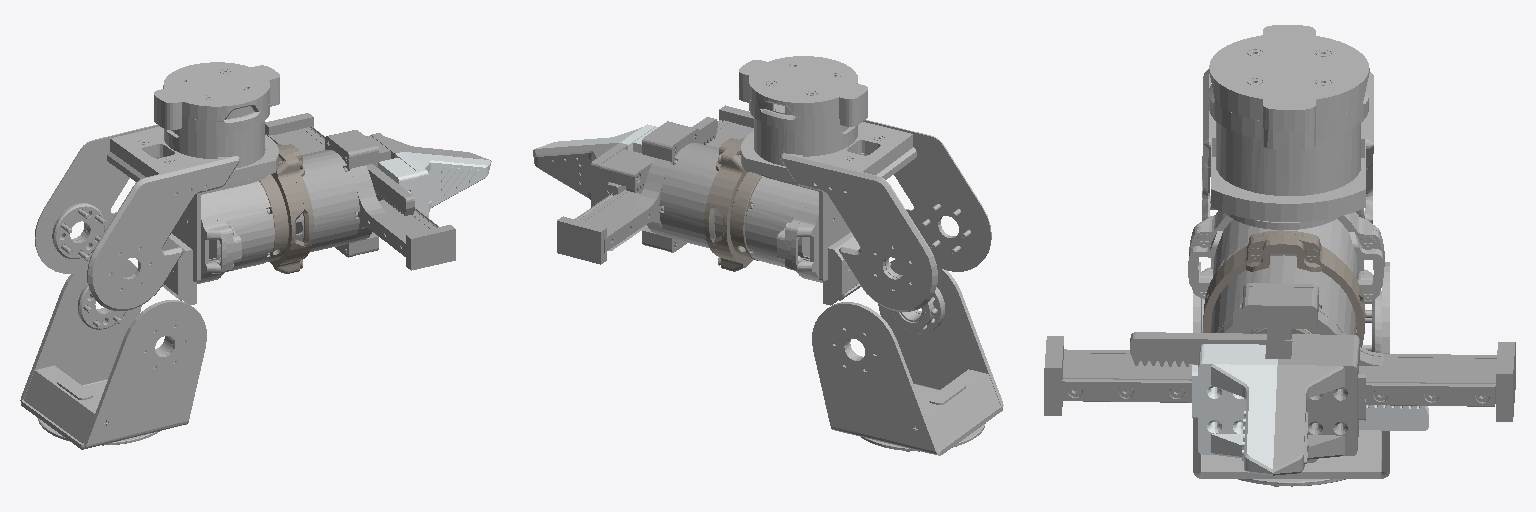
The robot description file, URDF, robot "joyarm_dm":
<?xml version="1.0" encoding="utf-8"?>
<!-- This URDF was automatically created by SolidWorks to URDF Exporter! Originally created by Stephen Brawner (brawner@gmail.com) 
     Commit Version: 1.6.0-4-g7f85cfe  Build Version: 1.6.7995.38578
     For more information, please see http://wiki.ros.org/sw_urdf_exporter -->

<robot name="joyarm_dm">
  <!-- ================================================================= -->
  <!--                               arm                                 -->
  <!-- ================================================================= -->

  <!-- ============================ link0 =========================== -->
  <link name="link0">
    <inertial>
      <origin xyz="-0.000007 -0.000030 0.045940" rpy="0 0 0" />
      <mass value="0.808" />
      <inertia ixx="0.001376929" ixy="0.000000066" ixz="-0.000000003" iyy="0.001095376" iyz="-0.000000538" izz="0.001367384" />
    </inertial>
    <visual>
      <origin xyz="0 0 0" rpy="0 0 0" />
      <geometry>
        <mesh filename="../meshes/link0.STL" />
      </geometry>
      <material name="">
        <color rgba="0.75294 0.75294 0.75294 1" />
      </material>
    </visual>
    <collision>
      <origin xyz="0 0 0" rpy="0 0 0" />
      <geometry>
        <mesh filename="../meshes/link0.STL" />
      </geometry>
    </collision>
  </link>

  <!-- ============================ link1 =========================== -->
  <link name="link1">
    <inertial>
      <origin xyz="0.006732 -0.002604 -0.030755" rpy="0 0 0" />
      <mass value="0.217" />
      <inertia ixx="0.000332437" ixy="0.000007515" ixz="-0.000052614" iyy="0.000237489" iyz="0.000017447" izz="0.000262793" />
    </inertial>
    <visual>
      <origin xyz="0 0 0" rpy="0 0 0" />
      <geometry>
        <mesh filename="../meshes/link1.STL" />
      </geometry>
      <material name="">
        <color rgba="0.75294 0.75294 0.75294 1" />
      </material>
    </visual>
    <collision>
      <origin xyz="0 0 0" rpy="0 0 0" />
      <geometry>
        <mesh filename="../meshes/link1.STL" />
      </geometry>
    </collision>
  </link>

  <!-- ============================ joint1 =========================== -->
  <joint name="joint1" type="revolute">
    <origin xyz="0 0 0.1402" rpy="0 0 0" />
    <parent link="link0" />
    <child link="link1" />
    <axis xyz="0 0 1" />
    <limit lower="-2.8" upper="2.8" effort="30" velocity="5" />
  </joint>

  <!-- ============================ link2 =========================== -->
  <link name="link2">
    <inertial>
      <origin xyz="0.133871 -0.001318 -0.001129" rpy="0 0 0" />
      <mass value="1.196" />
      <inertia ixx="0.000684690" ixy="-0.000003268" ixz="-0.000061685" iyy="0.017240403" iyz="0.000002921" izz="0.017039728" />
    </inertial>
    <visual>
      <origin xyz="0 0 0" rpy="3.141592653589793 0 0" />
      <geometry>
        <mesh filename="../meshes/link2.STL" />
      </geometry>
      <material name="">
        <color rgba="0.75294 0.75294 0.75294 1" />
      </material>
    </visual>
    <collision>
      <origin xyz="0 0 0" rpy="3.141592653589793 0 0" />
      <geometry>
        <mesh filename="../meshes/link2.STL" />
      </geometry>
    </collision>
  </link>

  <!-- ============================ joint2 =========================== -->
  <joint name="joint2" type="revolute">
    <origin xyz="0.02 0 0" rpy="-1.5707963267948966 0 3.141592653589793" />
    <parent link="link1" />
    <child link="link2" />
    <axis xyz="0 0 1" />
    <limit lower="-3.14" upper="0" effort="30" velocity="5" />
  </joint>

  <!-- ============================ link3 =========================== -->
  <link name="link3">
    <inertial>
      <origin xyz="0.159621 -0.015443 0.000257" rpy="0 0 0" />
      <mass value="0.799" />
      <inertia ixx="0.000845656" ixy="-0.001092298" ixz="-0.000007172" iyy="0.008275845" iyz="0.000000031" izz="0.008302930" />
    </inertial>
    <visual>
      <origin xyz="0 0 0" rpy="0 0 0" />
      <geometry>
        <mesh filename="../meshes/link3.STL" />
      </geometry>
      <material name="">
        <color rgba="0.69804 0.69804 0.69804 1" />
      </material>
    </visual>
    <collision>
      <origin xyz="0 0 0" rpy="0 0 0" />
      <geometry>
        <mesh filename="../meshes/link3.STL" />
      </geometry>
    </collision>
  </link>

  <!-- ============================ joint3 =========================== -->
  <joint name="joint3" type="revolute">
    <origin xyz="0.264 0 0" rpy="3.141592653589793 0 -2.9226" />
    <parent link="link2" />
    <child link="link3" />
    <axis xyz="0 0 1" />
    <limit lower="-3.14" upper="0" effort="30" velocity="5" />
  </joint>

  <!-- ============================ link4 =========================== -->
  <link name="link4">
    <inertial>
      <origin xyz="0.062723 -0.049703 -0.000784" rpy="0 0 0" />
      <mass value="0.473" />
      <inertia ixx="0.000417026" ixy="0.000234109" ixz="0.000014853" iyy="0.000645358" iyz="-0.000013317" izz="0.000707636" />
    </inertial>
    <visual>
      <origin xyz="0 0 0" rpy="0 0 0" />
      <geometry>
        <mesh filename="../meshes/link4.STL" />
      </geometry>
      <material name="">
        <color rgba="0.75294 0.75294 0.75294 1" />
      </material>
    </visual>
    <collision>
      <origin xyz="0 0 0" rpy="0 0 0" />
      <geometry>
        <mesh filename="../meshes/link4.STL" />
      </geometry>
    </collision>
  </link>

  <!-- ============================ joint4 =========================== -->
  <joint name="joint4" type="revolute">
   <!--  <origin xyz="0.24854 0 0" rpy="0 -0.030795 0.21913" />-->
    <origin xyz="0.24854 0 0" rpy="0 0 0.21913" />
    <parent link="link3" />
    <child link="link4" />
    <axis xyz="0 0 1" />
    <limit lower="-1.57" upper="1.57" effort="9" velocity="8" />
  </joint>

  <!-- ============================ link5 =========================== -->
  <link name="link5">
    <inertial>
      <origin xyz="0.000770 0.001115 -0.003159" rpy="0 0 0" />
      <mass value="0.375" />
      <inertia ixx="0.000204066" ixy="-0.000000004" ixz="-0.000000037" iyy="0.000202394" iyz="-0.000005501" izz="0.000159540" />
    </inertial>
    <visual>
      <origin xyz="0 0 0" rpy="0 0 0" />
      <geometry>
        <mesh filename="../meshes/link5.STL" />
      </geometry>
      <material name="">
        <color rgba="0.75294 0.75294 0.75294 1" />
      </material>
    </visual>
    <collision>
      <origin xyz="0 0 0" rpy="0 0 0" />
      <geometry>
        <mesh filename="../meshes/link5.STL" />
      </geometry>
    </collision>
  </link>

  <!-- ============================ joint5 =========================== -->
  <joint name="joint5" type="revolute">
    <origin xyz="0.078283 0.0024911 -0.0016418" rpy="1.571 1.54 -3.1416" />
    <parent link="link4" />
    <child link="link5" />
    <axis xyz="0 0 1" />
    <limit lower="-1.57" upper="1.57" effort="9" velocity="8" />
  </joint>

  <!-- ============================ link6 =========================== -->
  <link name="link6">
    <inertial>
      <origin xyz="0 0.000013 0.029727" rpy="0 0 0" />
      <mass value="0.070" />
      <inertia ixx="0.000021878" ixy="0" ixz="0" iyy="0.000017678" iyz="0.000000005" izz="0.000035131" />
    </inertial>
    <visual>
      <origin xyz="0 0 0" rpy="0 0 0" />
      <geometry>
        <mesh filename="../meshes/link6.STL" />
      </geometry>
      <material name="">
        <color rgba="0.64706 0.61961 0.58824 1" />
      </material>
    </visual>
    <collision>
      <origin xyz="0 0 0" rpy="0 0 0" />
      <geometry>
        <mesh filename="../meshes/link6.STL" />
      </geometry>
    </collision>
  </link>

  <!-- ============================ joint6 =========================== -->
  <joint name="joint6" type="revolute">
   <!-- <origin xyz="0.00076939 -1.1537E-05 0" rpy="1.5707 0 0" />-->
    <origin xyz="0 0 0" rpy="1.5707963267948966 0 0" />
    <parent link="link5" />
    <child link="link6" />
    <axis xyz="0 0 1" />
    <limit lower="-3.14" upper="3.14" effort="9" velocity="8" />
  </joint>

  <!-- ================================================================= -->
  <!--                            end-gripper                            -->
  <!-- ================================================================= -->

  <!-- ============================ link_end0 =========================== -->
  <link name="link_end0">
    <inertial>
      <origin xyz="0.038762 0.000098 0.000004" rpy="0 0 0" />
      <mass value="0.432" />
      <inertia ixx="0.000444560" ixy="0.000001261" ixz="-0.000000026" iyy="0.000259681" iyz="-0.000000837" izz="0.000548240" />
    </inertial>
    <visual>
      <origin xyz="0 0 0" rpy="0 0 0" />
      <geometry>
        <mesh filename="../meshes/link_end0.STL" />
      </geometry>
      <material name="">
        <color rgba="0.69804 0.69804 0.69804 1" />
      </material>
    </visual>
    <collision>
      <origin xyz="0 0 0" rpy="0 0 0" />
      <geometry>
        <mesh filename="../meshes/link_end0.STL" />
      </geometry>
    </collision>
  </link>

  <!-- ============================ joint_end0 =========================== -->
  <joint name="joint_end0" type="fixed">
    <origin xyz="0 0 0.032692" rpy="1.5708 -1.5708 0" />
    <parent link="link6" />
    <child link="link_end0" />
  </joint>

  <!-- ============================ link_end1 =========================== -->
  <link name="link_end1">
    <inertial>
      <origin xyz="0.009666 0 -0.000005" rpy="0 0 0" />
      <mass value="0.023" />
      <inertia ixx="0.000001453" ixy="0" ixz="-0.000000004" iyy="0.000001700" iyz="0" izz="0.000001701" />
    </inertial>
    <visual>
      <origin xyz="0 0 0" rpy="0 0 0" />
      <geometry>
        <mesh filename="../meshes/link_end1.STL" />
      </geometry>
      <material name="">
        <color rgba="0.64706 0.61961 0.58824 1" />
      </material>
    </visual>
    <collision>
      <origin xyz="0 0 0" rpy="0 0 0" />
      <geometry>
        <mesh filename="../meshes/link_end1.STL" />
      </geometry>
    </collision>
  </link>

  <!-- ============================ joint_end1 =========================== -->
  <joint name="joint_end1" type="revolute">
    <origin xyz="0.0485 0 0" rpy="0 0 0" />
    <parent link="link_end0" />
    <child link="link_end1" />
    <axis xyz="1 0 0" />
    <limit lower="-5.49" upper="0" effort="1.5" velocity="8" />
  </joint>

  <!-- ============================ link_end_fingerright =========================== -->
  <link name="link_end_fingerright">
    <inertial>
      <origin xyz="-0.005907 -0.011609 -0.002754" rpy="0 0 0" />
      <mass value="0.085" />
      <inertia ixx="0.000037044" ixy="0.000003980" ixz="-0.000003378" iyy="0.000024399" iyz="0.000005275" izz="0.000042504" />
    </inertial>
    <visual>
      <origin xyz="0 0 0" rpy="0 0 0" />
      <geometry>
        <mesh filename="../meshes/link_end_fingerright.STL" />
      </geometry>
      <material name="">
        <color rgba="0.89804 0.91765 0.92941 1" />
      </material>
    </visual>
    <collision>
      <origin xyz="0 0 0" rpy="0 0 0" />
      <geometry>
        <mesh filename="../meshes/link_end_fingerright.STL" />
      </geometry>
    </collision>
  </link>

  <!-- ============================ joint_end_fingerright =========================== -->
  <joint name="joint_end_fingerright" type="prismatic">
    <origin xyz="0.0859 2.7531E-05 -1.3031E-05" rpy="0 0 0" />
    <parent link="link_end0" />
    <child link="link_end_fingerright" />
    <axis xyz="0 1 -0.00014746" />
    <limit lower="-0.04625" upper="0" effort="178.15" velocity="0.06736" />
    <mimic joint="joint_end1" multiplier="0.00842" offset="0" />
  </joint>

  <!-- ============================ link_end_fingerleft =========================== -->
  <link name="link_end_fingerleft">
    <inertial>
      <origin xyz="-0.005907 0.011609 0.002754" rpy="0 0 0" />
      <mass value="0.085" />
      <inertia ixx="0.000037044" ixy="-0.000003980" ixz="0.000003378" iyy="0.000024399" iyz="0.000005275" izz="0.000042504" />
    </inertial>
    <visual>
      <origin xyz="0 0 0" rpy="0 0 0" />
      <geometry>
        <mesh filename="../meshes/link_end_fingerleft.STL" />
      </geometry>
      <material name="">
        <color rgba="0.69804 0.69804 0.69804 1" />
      </material>
    </visual>
    <collision>
      <origin xyz="0 0 0" rpy="0 0 0" />
      <geometry>
        <mesh filename="../meshes/link_end_fingerleft.STL" />
      </geometry>
    </collision>
  </link>

  <!-- ============================ joint_end_fingerleft =========================== -->
  <joint name="joint_end_fingerleft" type="prismatic">
    <origin xyz="0.0859 -2.7531E-05 1.3031E-05" rpy="0 0 0" />
    <parent link="link_end0" />
    <child link="link_end_fingerleft" />
    <axis xyz="0 -1 0.00014746" />
    <limit lower="-0.04625" upper="0" effort="178.15" velocity="0.06736" />
    <mimic joint="joint_end1" multiplier="0.00842" offset="0" />
  </joint>

  <!-- ==================== frame_end_tcp / joint_frame_end_tcp ==================== -->
  <link name="frame_end_tcp" />
  <joint name="joint_frame_end_tcp" type="fixed">
    <origin xyz="0.12510 0 0" rpy="0 0 0" />
    <parent link="link_end0" />
    <child link="frame_end_tcp" />
  </joint>

  <!-- ================ frame_end_fingertip / joint_frame_end_fingertip ============= -->
  <link name="frame_end_fingertip" />
  <joint name="joint_frame_end_fingertip" type="fixed">
    <origin xyz="0.15071 0 -0.00001" rpy="0 0 0" />
    <parent link="link_end0" />
    <child link="frame_end_fingertip" />
  </joint>
</robot>

--- What the picture shows (computed from the rendered views, not written in the file) ---
The picture shows the robot from 3 angles, left to right: view 1: azimuth 30°, elevation 25°; view 2: azimuth 150°, elevation 25°; view 3: azimuth 270°, elevation 25°; orthographic projection.
Robot: joyarm_dm — 13 links, 12 joints (7 revolute, 2 prismatic, 3 fixed); root link link0; default pose: every joint at zero.
Visible links, largest first — view 1: link4, link1, link_end0, link5, link6, link_end_fingerright, link_end_fingerleft; view 2: link4, link1, link_end0, link5, link_end_fingerleft, link6, link_end_fingerright; view 3: link4, link_end0, link_end_fingerleft, link_end_fingerright, link5, link1, link6.
Link boxes in pixels (<box>): link4: <box>35,62,279,310</box>; link1: <box>20,259,206,449</box>; link_end0: <box>265,113,455,270</box>; link5: <box>162,175,274,304</box>; link6: <box>259,144,313,273</box>; link_end_fingerright: <box>373,152,490,239</box>; link_end_fingerleft: <box>366,133,491,215</box>; link4: <box>739,56,991,311</box>; link1: <box>812,259,1003,455</box>; link_end0: <box>557,105,753,264</box>; link5: <box>745,174,860,305</box>; link_end_fingerleft: <box>533,117,717,207</box>; link6: <box>704,138,761,271</box>; link_end_fingerright: <box>536,124,657,250</box>; link4: <box>1202,25,1373,223</box>; link_end0: <box>1044,253,1515,462</box>; link_end_fingerleft: <box>1130,332,1365,475</box>; link_end_fingerright: <box>1192,344,1428,475</box>; link5: <box>1188,211,1384,300</box>; link1: <box>1193,262,1389,486</box>; link6: <box>1203,230,1365,347</box>.
Bounding box of the posed robot: 0.2987 × 0.1849 × 0.2123 m (x, y, z).
Meshes: 11 distinct files referenced, 8 mesh visuals loaded (8 binary STL); not drawn: 3 (reference not matched to a file when rendering).
